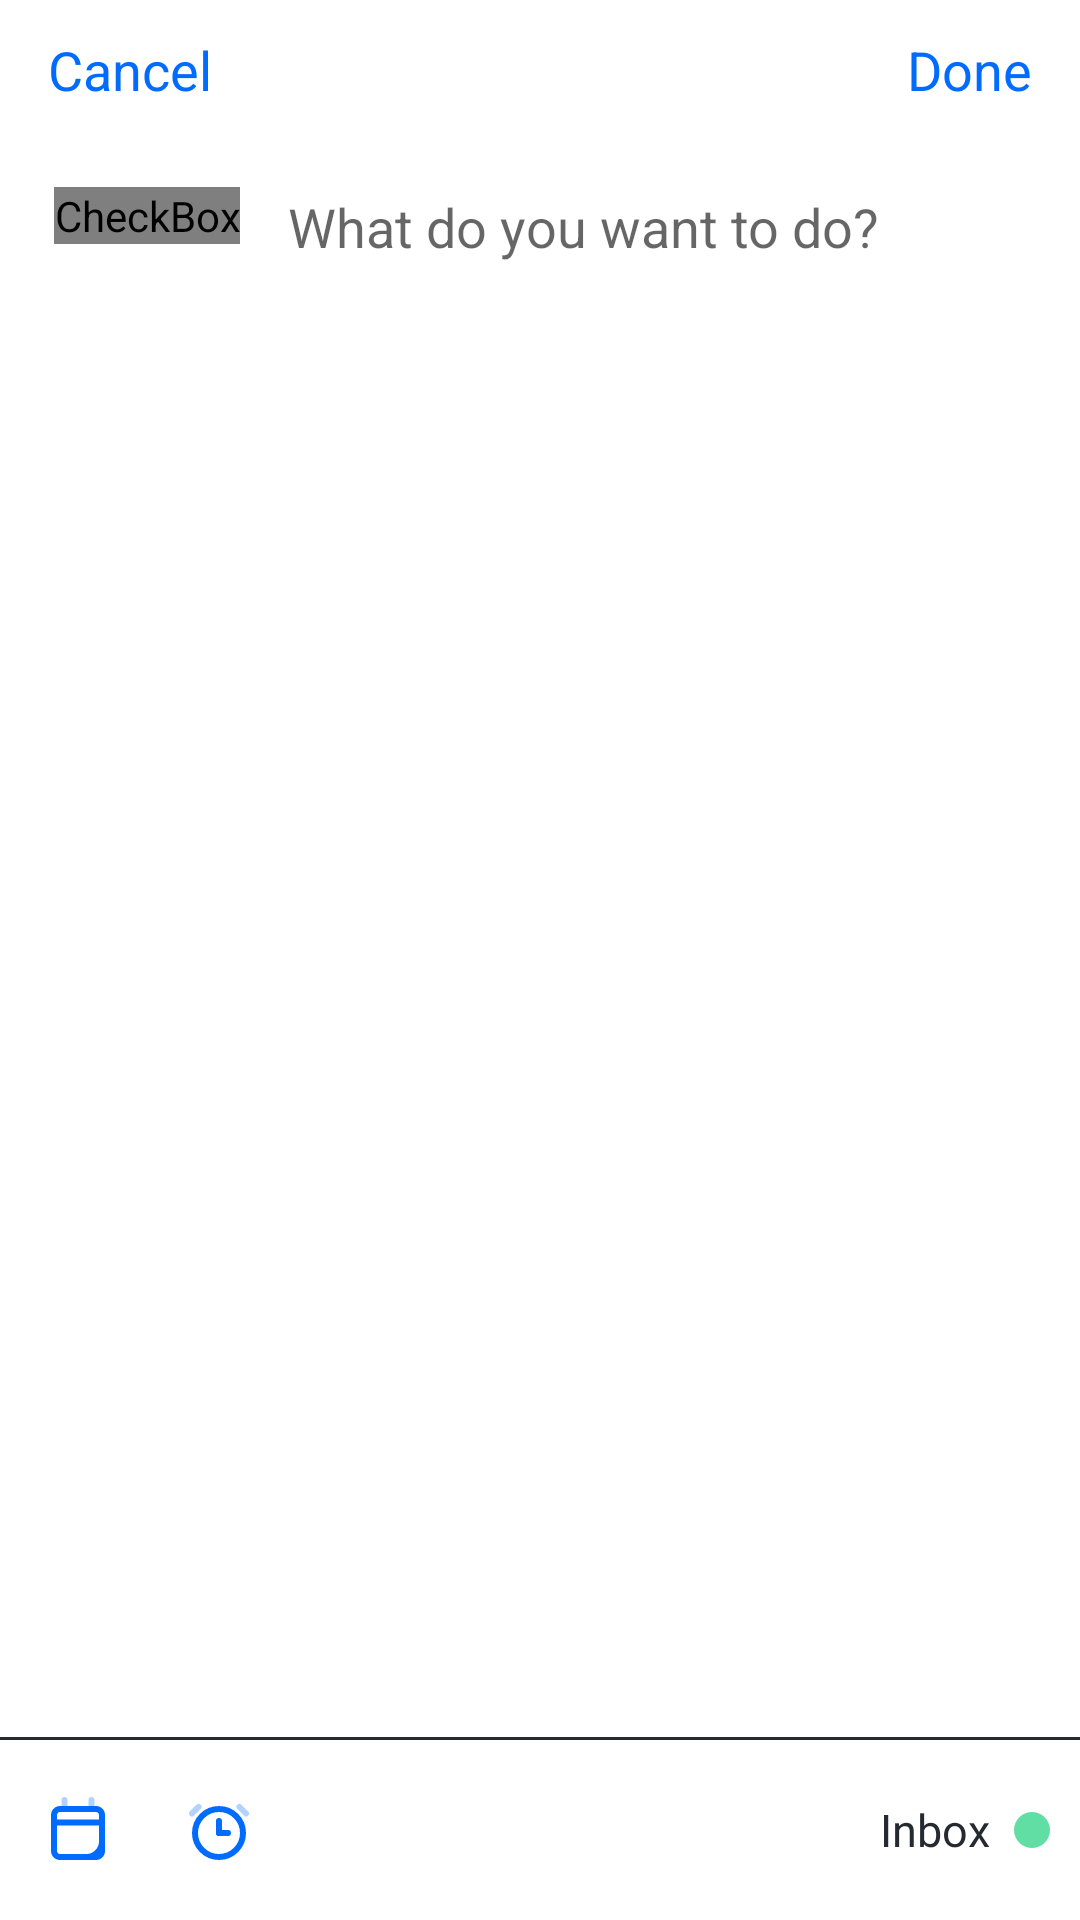

Where icons sit on this 1080*1920 app screen, as (x1, y1, x2, y2):
alarm: (189, 1804, 249, 1860)
calendar: (51, 1797, 105, 1860)
